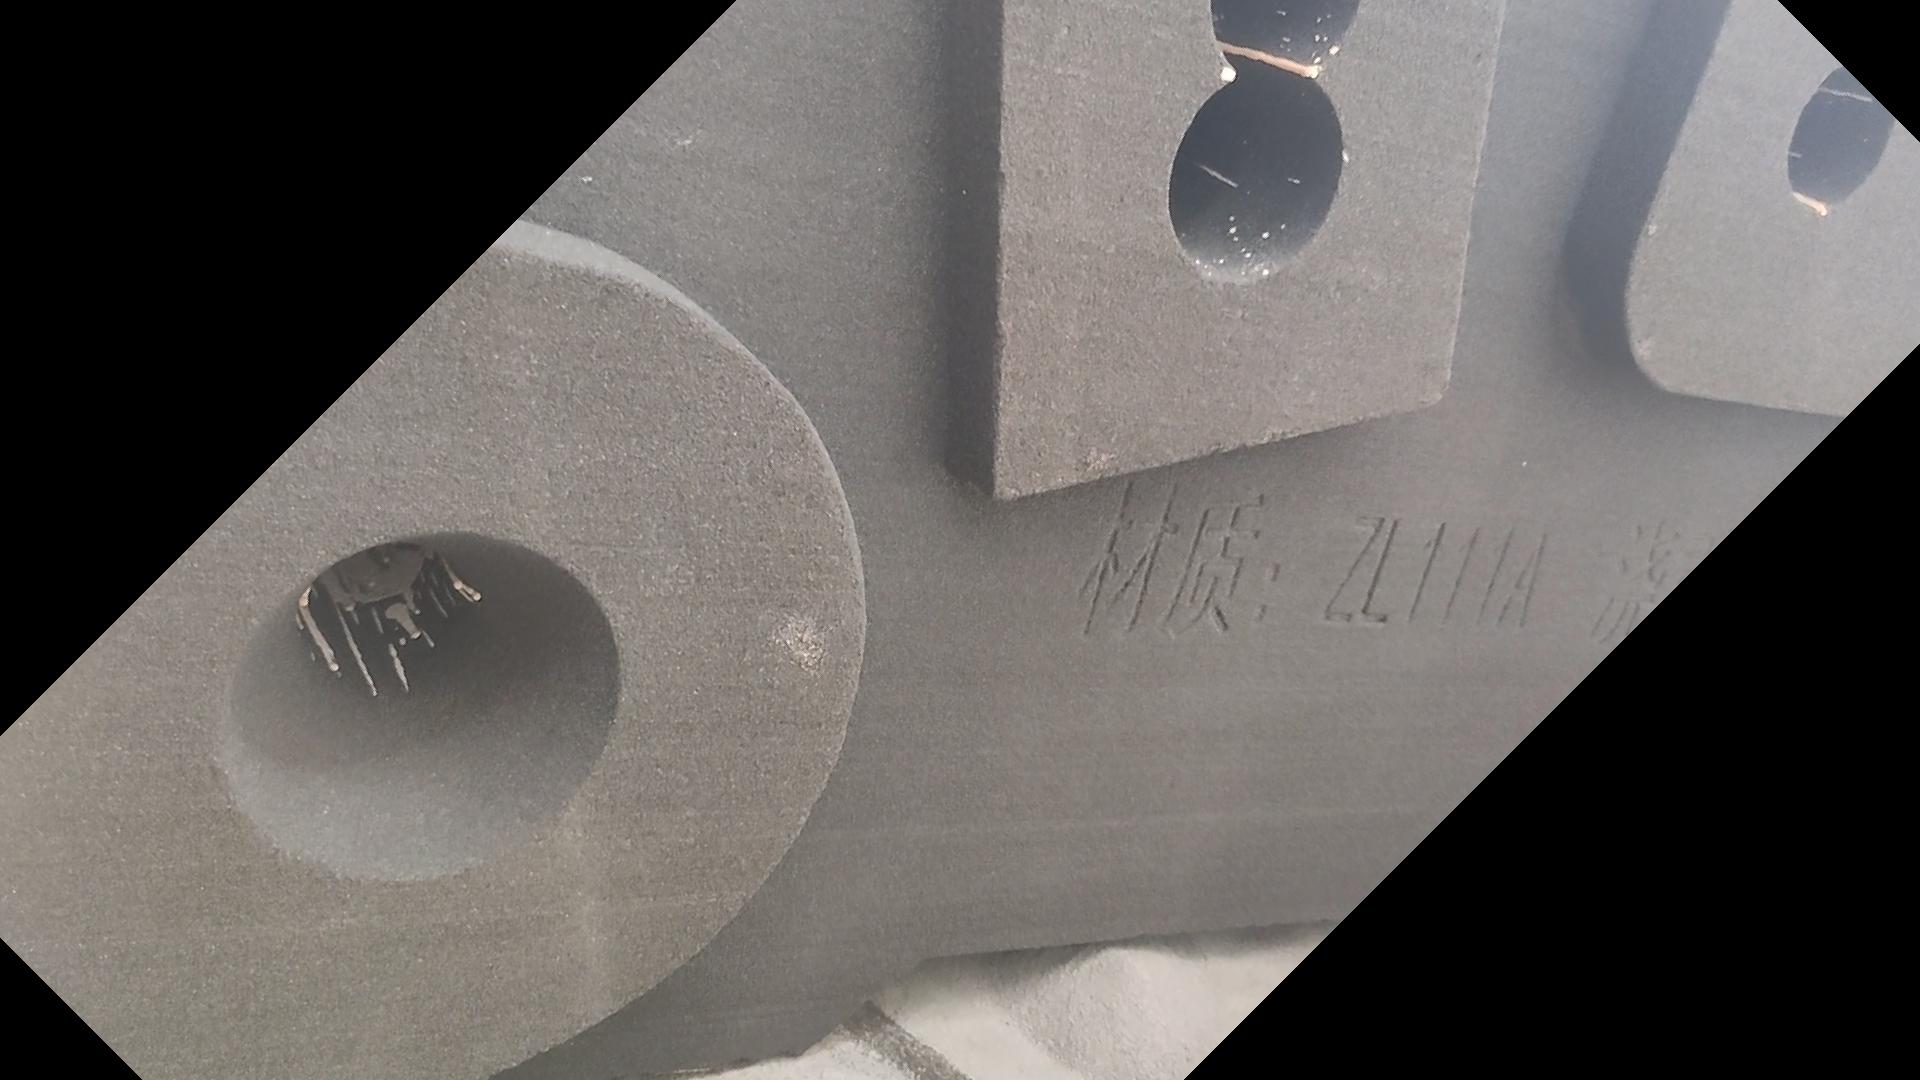pouring hole: (211, 533, 620, 886)
